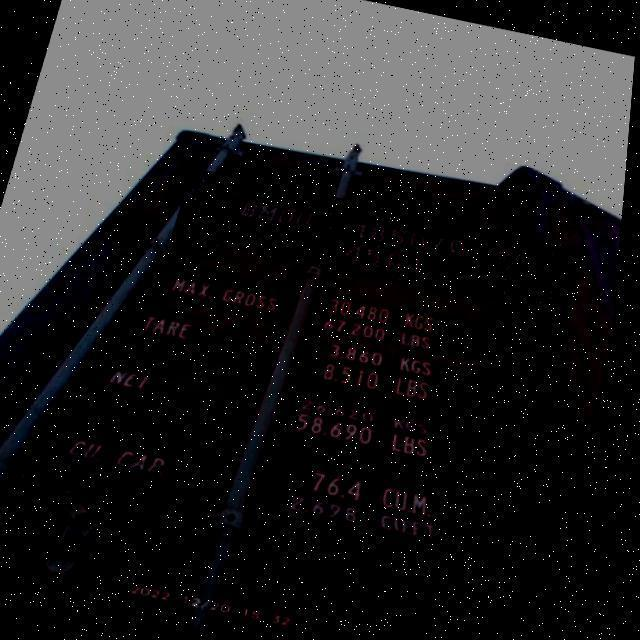container_number_h: (169, 165, 597, 322)
